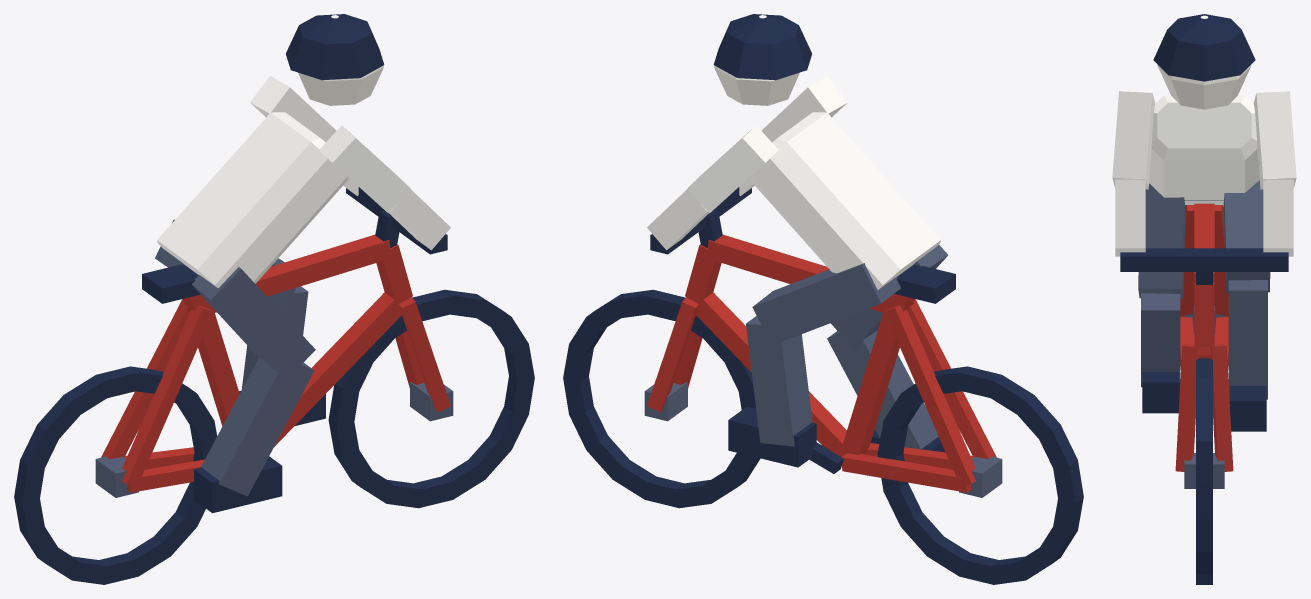
The model's file is bike.glb.
3 views of the same model, side by side, from view 1: azimuth 30°, elevation 25°; view 2: azimuth 150°, elevation 25°; view 3: azimuth 270°, elevation 25° (orthographic).
Parts seen in each view (by area): view 1: model; view 2: model; view 3: model.
Boxes of the visible parts, x1,y1,x2,y2 form: model: (14, 14, 534, 584); model: (563, 14, 1083, 584); model: (1112, 14, 1296, 584).
Bounding box in the file's own units: 1.76 × 1.67 × 0.5476.
